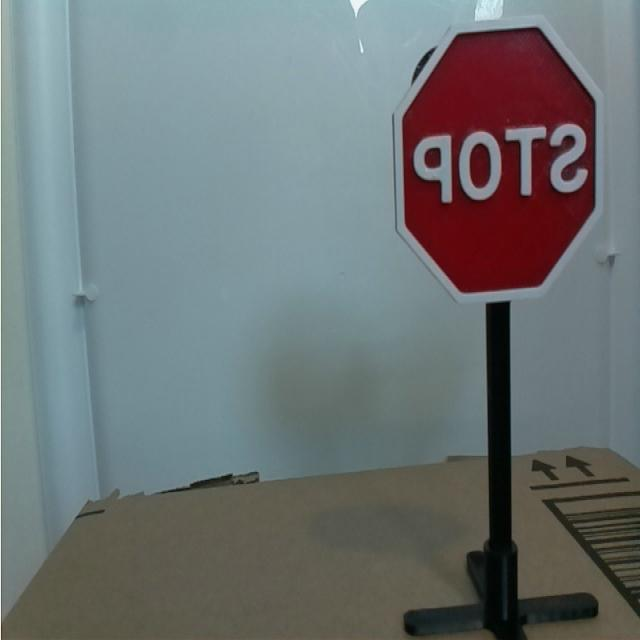duck_regular: (378, 1, 613, 326)
